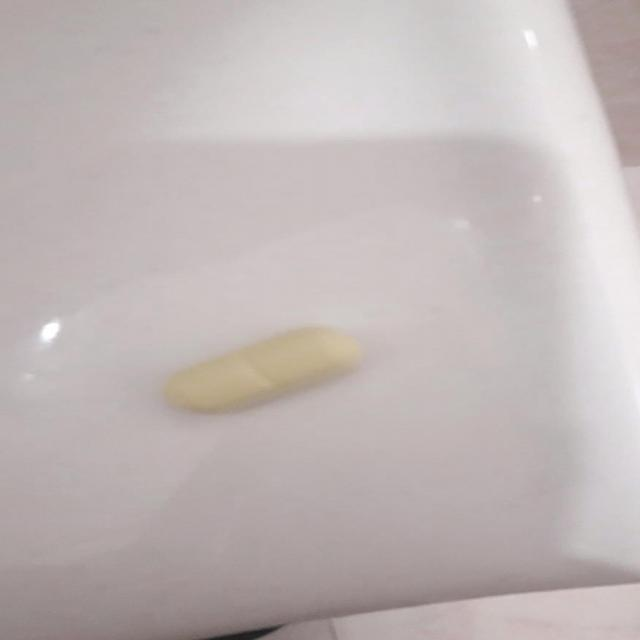pill: (160, 324, 364, 416)
